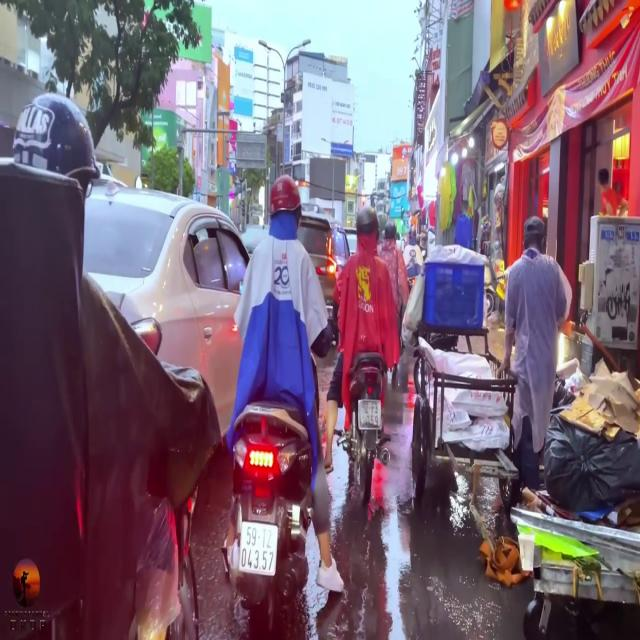bien_trang: (236, 518, 280, 582), (352, 399, 386, 436)
